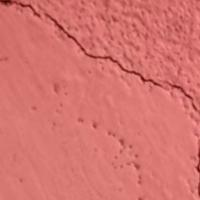crack: (2, 0, 199, 123)
